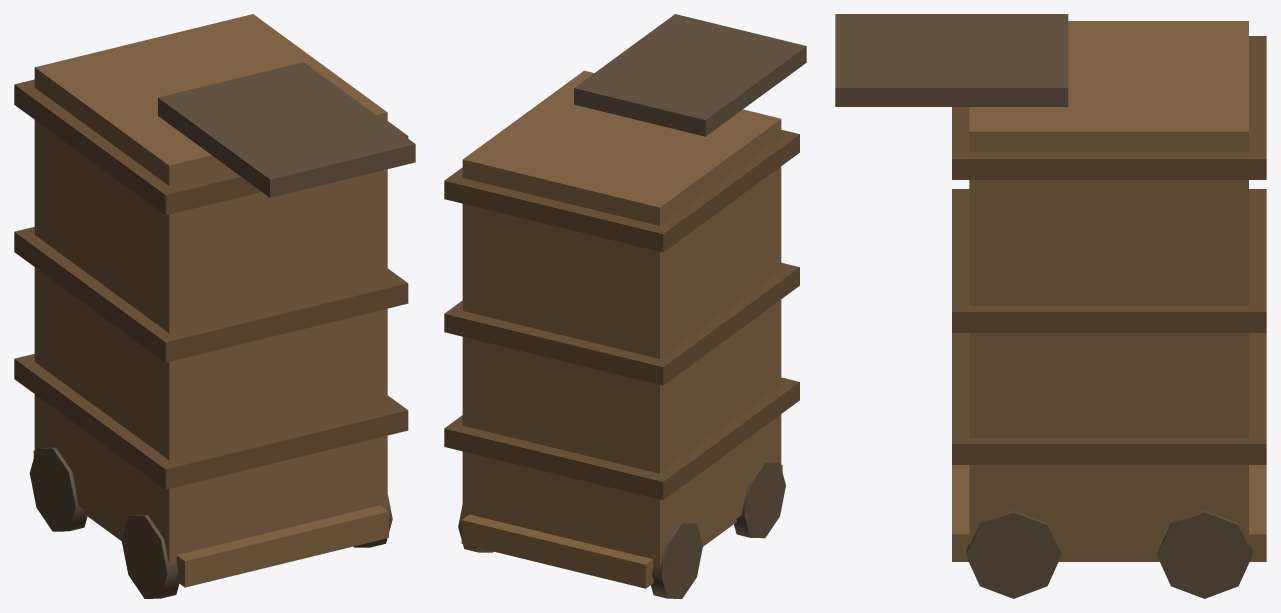
File: siege_tower_team1.glb
3 views of the same model, side by side, from view 1: azimuth 30°, elevation 25°; view 2: azimuth 150°, elevation 25°; view 3: azimuth 270°, elevation 25° (orthographic). The views are drawn at different scales.
Visible parts, largest first — view 1: part_16, part_20, part_18, part_17, part_11, part_19, part_13, part_12; view 2: part_16, part_20, part_19, part_17, part_18, part_11, part_12, part_13; view 3: part_16, part_20, part_18, part_17, part_19, part_14, part_15, part_11.
Boxes of the visible parts, bbox=[...] form: part_16: bbox=[34, 14, 387, 564]; part_20: bbox=[158, 62, 415, 197]; part_18: bbox=[14, 227, 408, 362]; part_17: bbox=[14, 354, 408, 489]; part_11: bbox=[33, 450, 388, 587]; part_19: bbox=[14, 79, 408, 215]; part_13: bbox=[121, 515, 179, 598]; part_12: bbox=[29, 447, 87, 531]; part_16: bbox=[462, 70, 781, 567]; part_20: bbox=[574, 14, 806, 136]; part_19: bbox=[444, 129, 799, 252]; part_17: bbox=[444, 377, 799, 500]; part_18: bbox=[444, 262, 799, 385]; part_11: bbox=[461, 464, 782, 588]; part_12: bbox=[651, 523, 702, 598]; part_13: bbox=[734, 462, 785, 538]; part_16: bbox=[969, 21, 1248, 553]; part_20: bbox=[835, 14, 1068, 106]; part_18: bbox=[952, 189, 1266, 332]; part_17: bbox=[952, 333, 1266, 464]; part_19: bbox=[952, 36, 1266, 179]; part_14: bbox=[1157, 510, 1252, 598]; part_15: bbox=[966, 510, 1061, 598]; part_11: bbox=[952, 465, 1266, 561].
Bounding box in the file's own units: 2.5 × 4.65 × 3.7.
